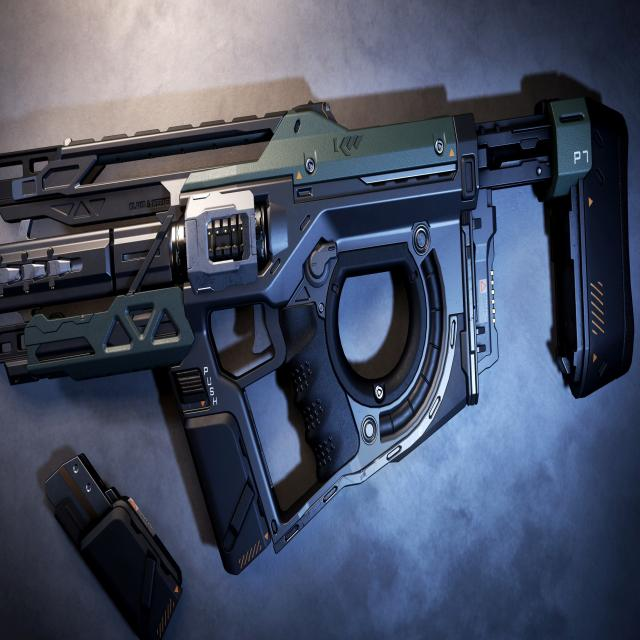Weapon: (0, 98, 633, 574)
